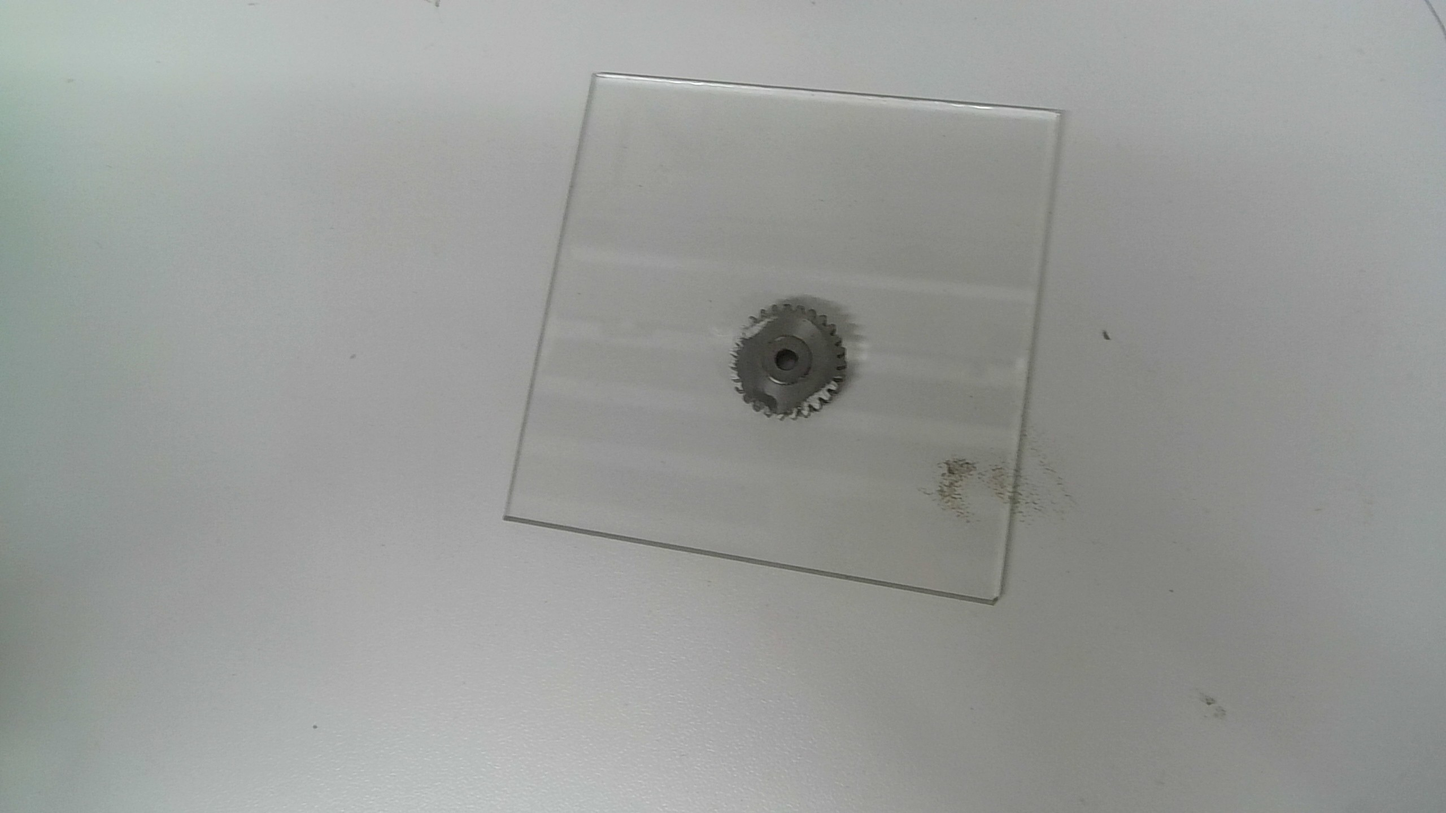gear: (728, 295, 849, 422)
